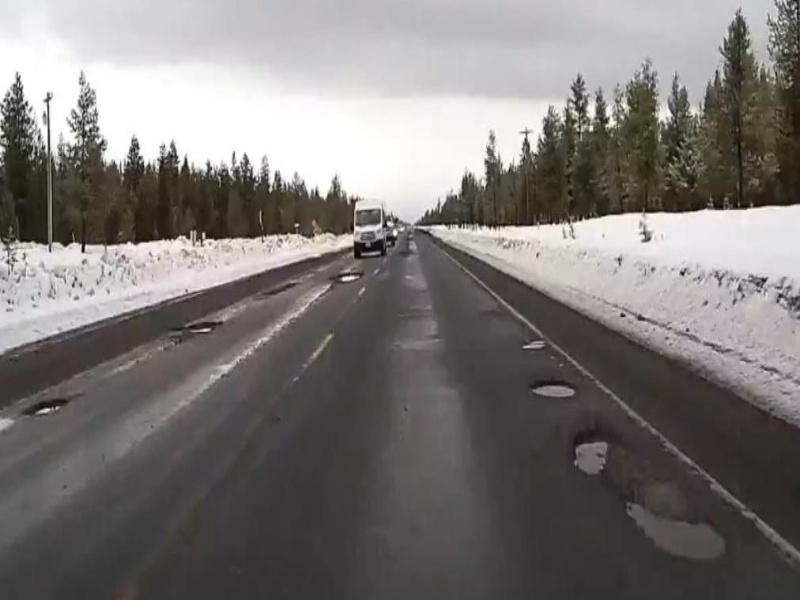pothole: (617, 487, 733, 567), (566, 425, 617, 478), (525, 373, 582, 403), (23, 391, 70, 420), (183, 314, 226, 337), (517, 333, 553, 352), (329, 268, 366, 286)
